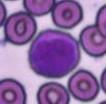M: (27, 30, 81, 78)
